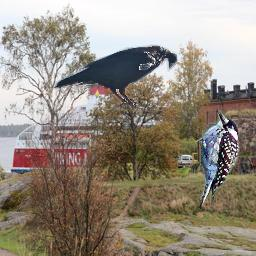Crow: (52, 44, 178, 109)
Woodpecker: (184, 107, 246, 215)
